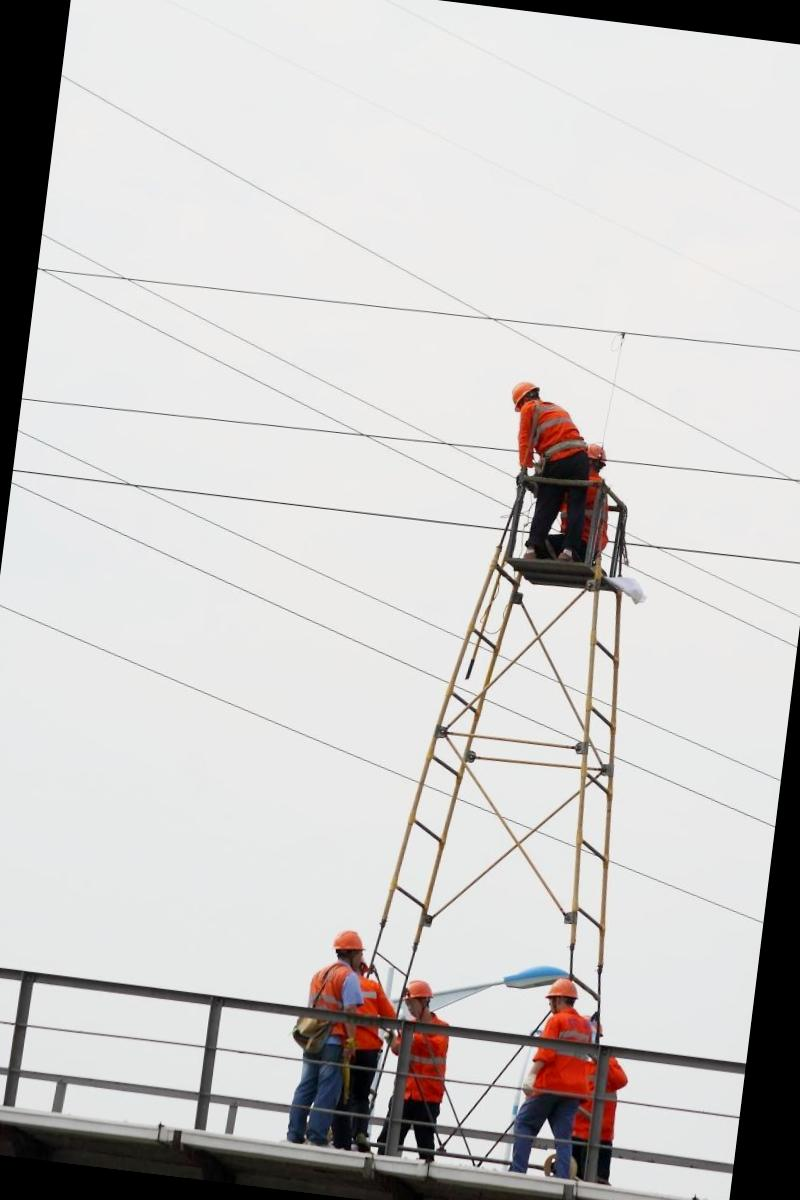person: (479, 369, 627, 590), (500, 964, 621, 1199), (278, 919, 387, 1161), (369, 966, 468, 1154)
